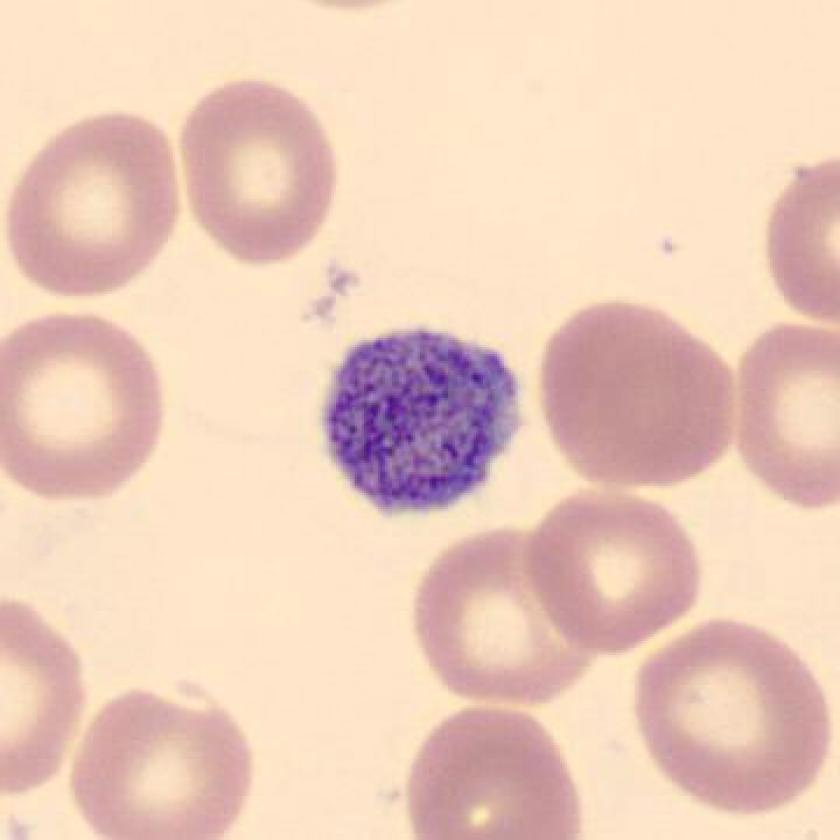platelets: (316, 320, 526, 529)
